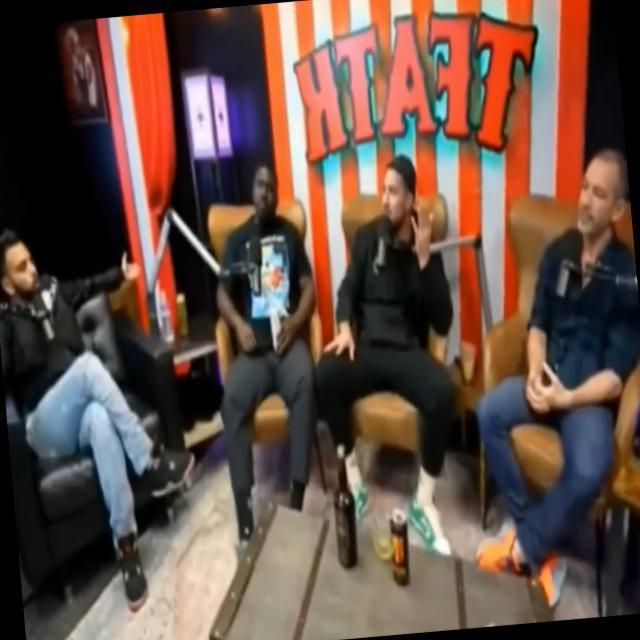person: (444, 134, 640, 578), (306, 137, 462, 552), (0, 225, 168, 608), (200, 150, 332, 552)
